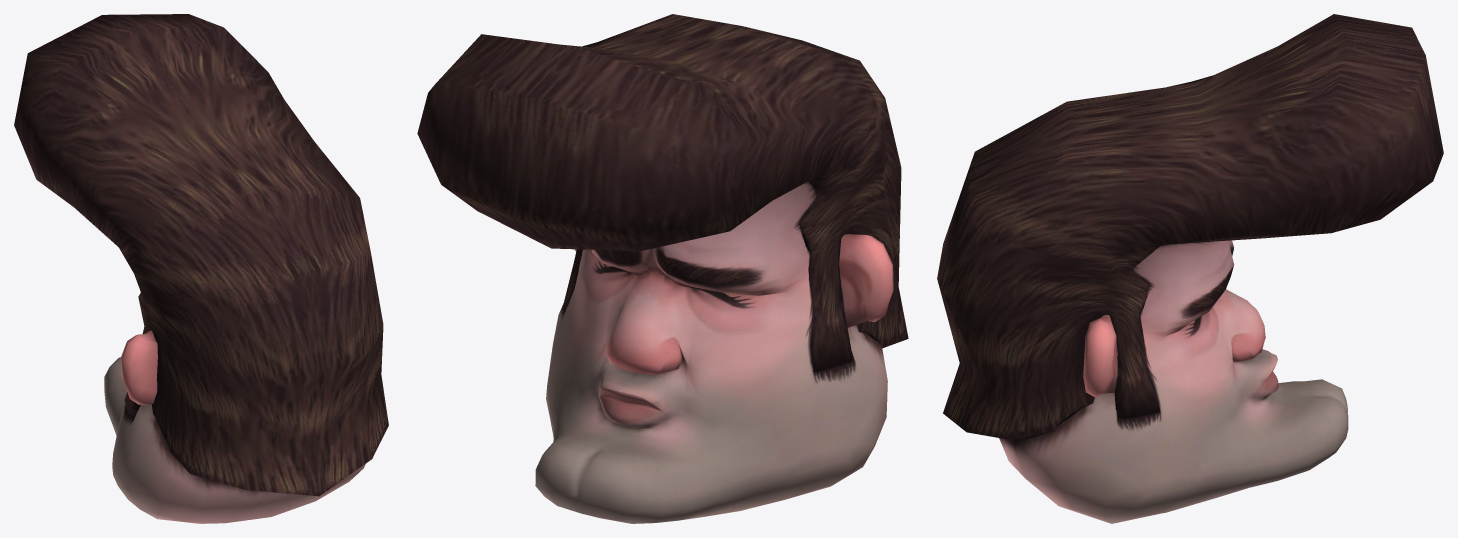
File: avatar1-head.glb
3 views of the same model, side by side, from view 1: azimuth 30°, elevation 25°; view 2: azimuth 150°, elevation 25°; view 3: azimuth 270°, elevation 25° (orthographic). The views are drawn at different scales.
Parts seen in each view (by area): view 1: head; view 2: head; view 3: head.
Part boxes in pixels (left/top/right/bottom): head: left=14, top=14, right=388, bottom=523; head: left=417, top=14, right=908, bottom=523; head: left=937, top=14, right=1443, bottom=523.
Bounding box in the file's own units: 0.2966 × 0.4621 × 0.4624.
Materials: 1 (1 with a texture image).
